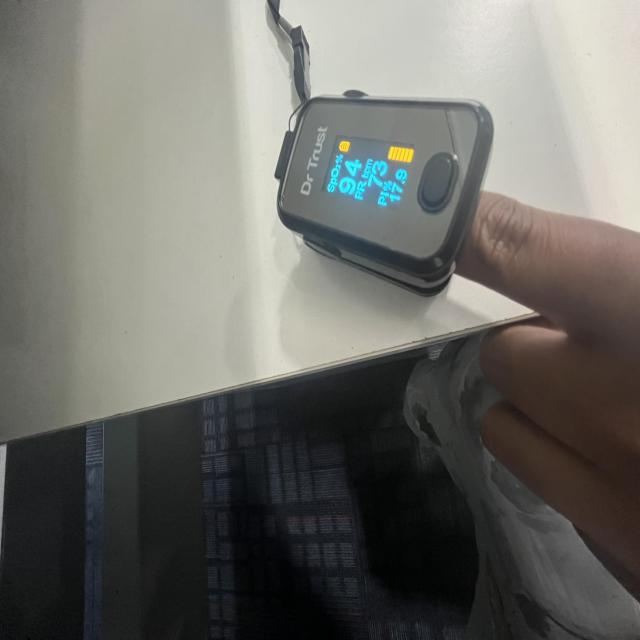spo2: (276, 94, 495, 296)
